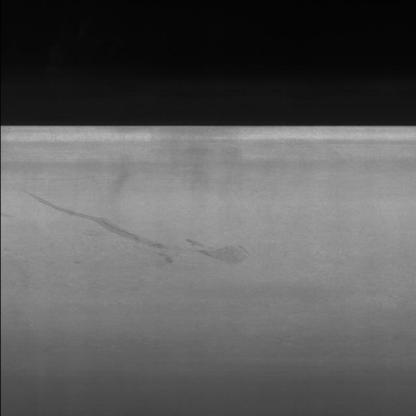water_spot: (21, 191, 260, 285)
